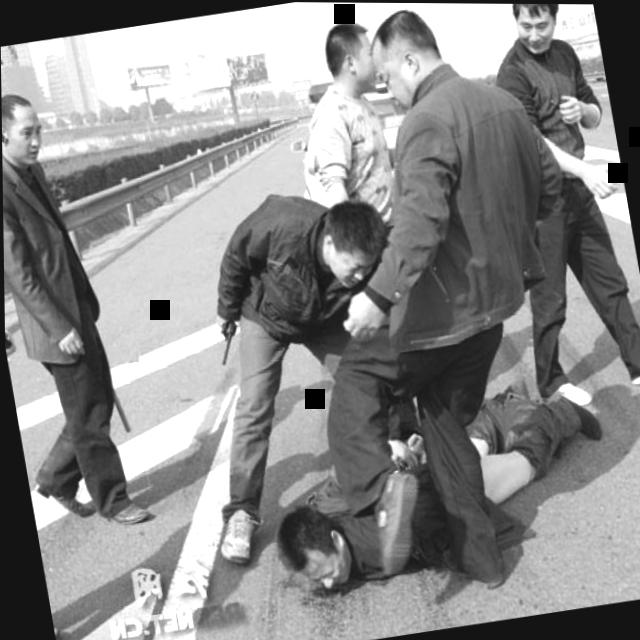Fall-Detected: (223, 336, 640, 615)
